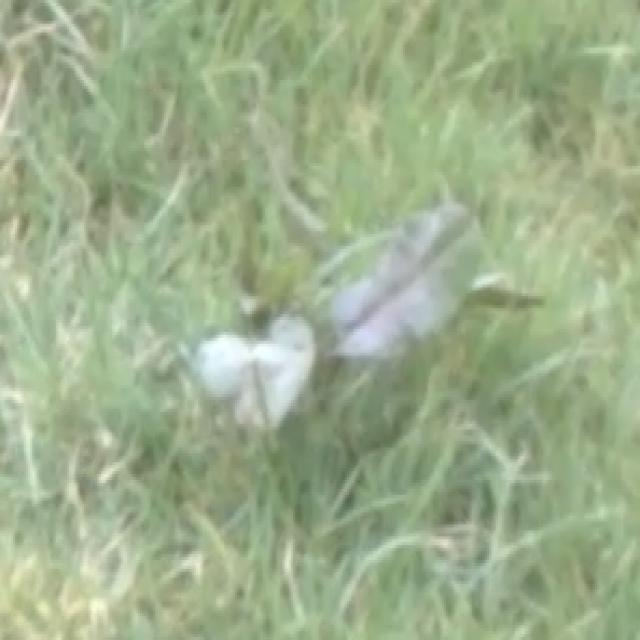organic waste: (142, 175, 544, 428)
